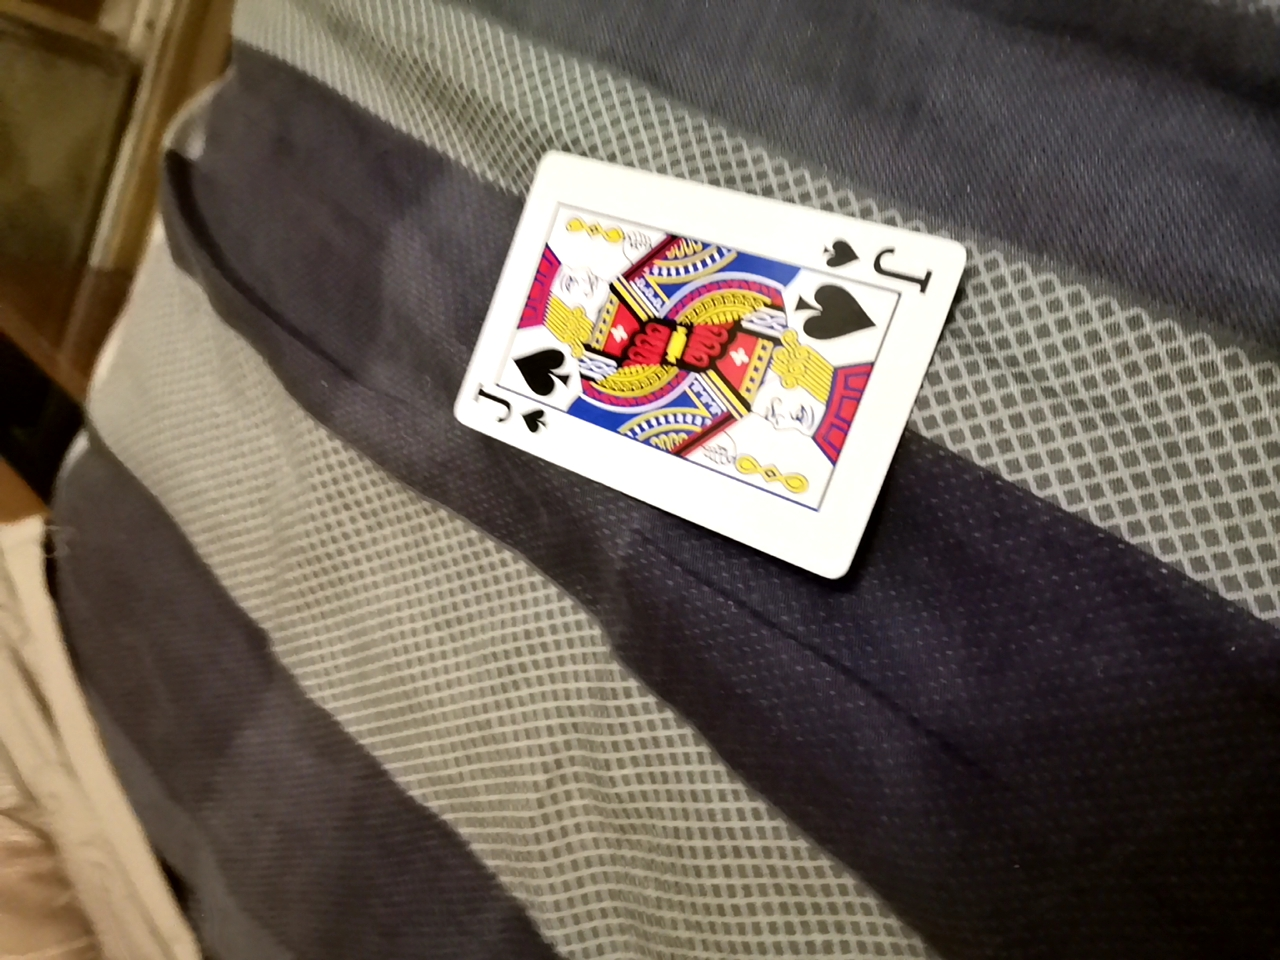ht j: (445, 141, 976, 580)
